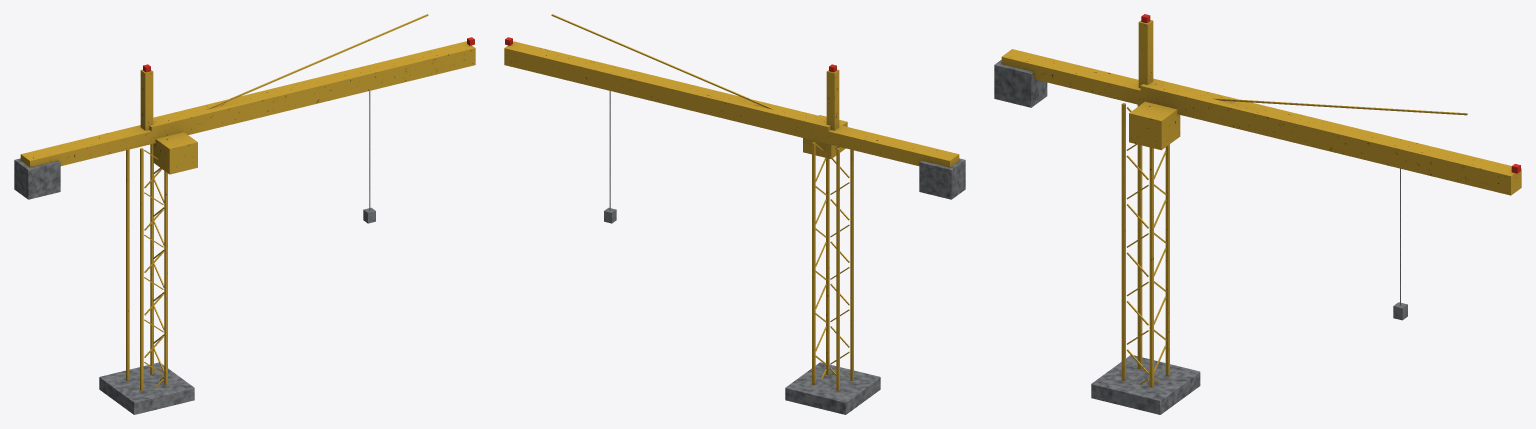
File: city_tower_crane.glb
3 views of the same model, side by side, from view 1: azimuth 30°, elevation 25°; view 2: azimuth 150°, elevation 25°; view 3: azimuth 330°, elevation 25° (orthographic). The views are drawn at different scales.
Parts seen in each view (by area): view 1: city_tower_crane; view 2: city_tower_crane; view 3: city_tower_crane.
Part boxes in pixels (x1,y1,x2,y2): city_tower_crane: (14,14,475,414); city_tower_crane: (504,14,965,414); city_tower_crane: (994,14,1521,414).
Bounding box in the file's own units: 22.33 × 15.52 × 3.1.
Materials: 4 (4 with a texture image).
